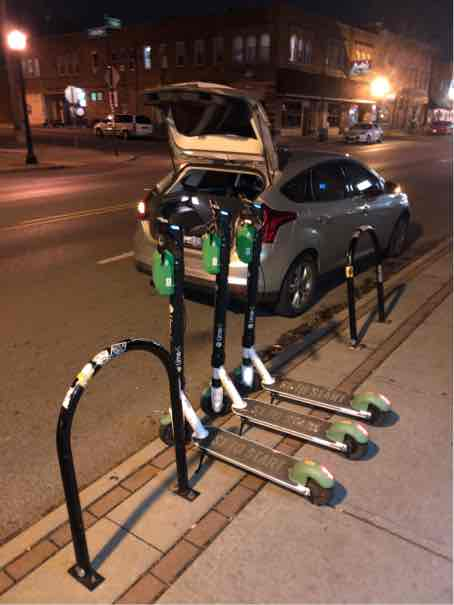too close: (142, 401, 209, 460), (188, 379, 248, 423)
